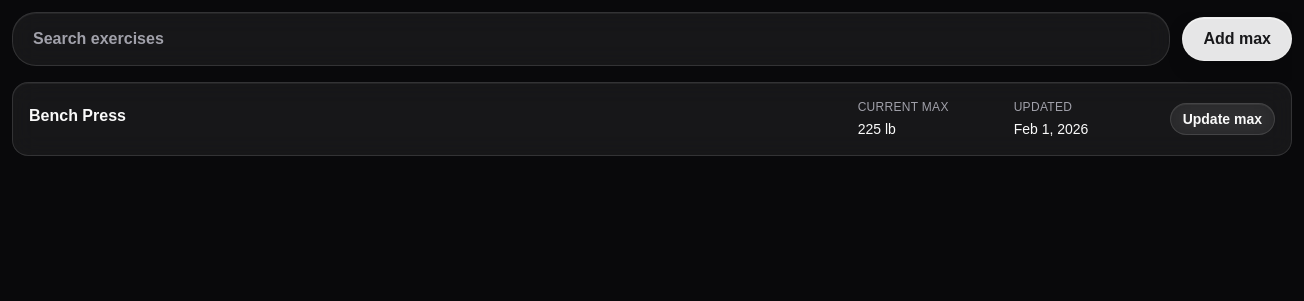
Test: CoachAthleteMaxesTab › shows exercise history when a max is selected
Click the button "Bench Press" at point(77, 116), box x1=29 y1=104 x2=126 y2=128
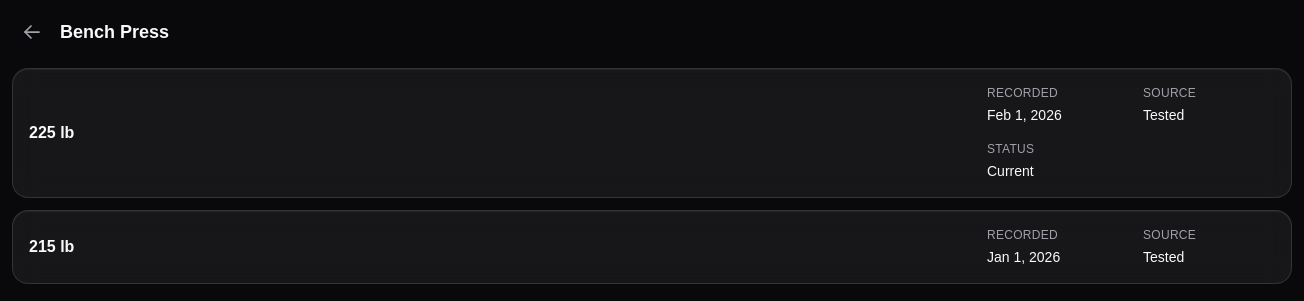
Expected: the button named "Back to maxes" is shown, x1=12 y1=12 x2=52 y2=52
Expected: the text "215 lb" is shown, x1=29 y1=238 x2=74 y2=255
